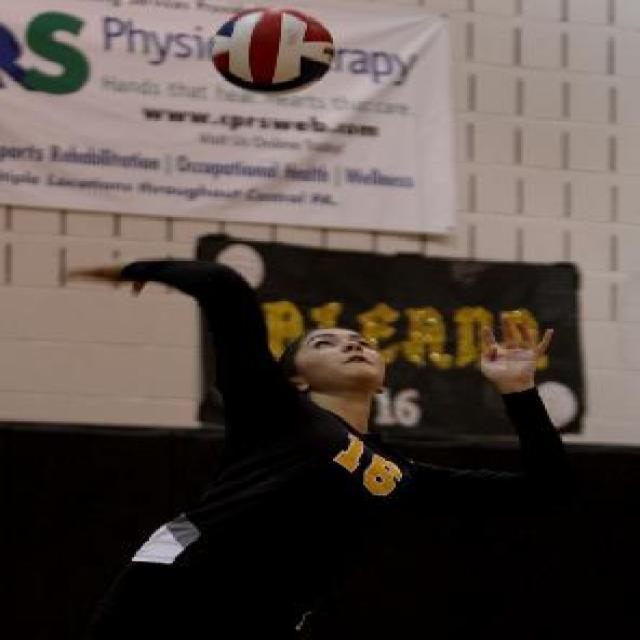volleyball: (211, 5, 335, 94)
